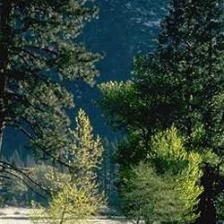neutral: (4, 3, 223, 222)
